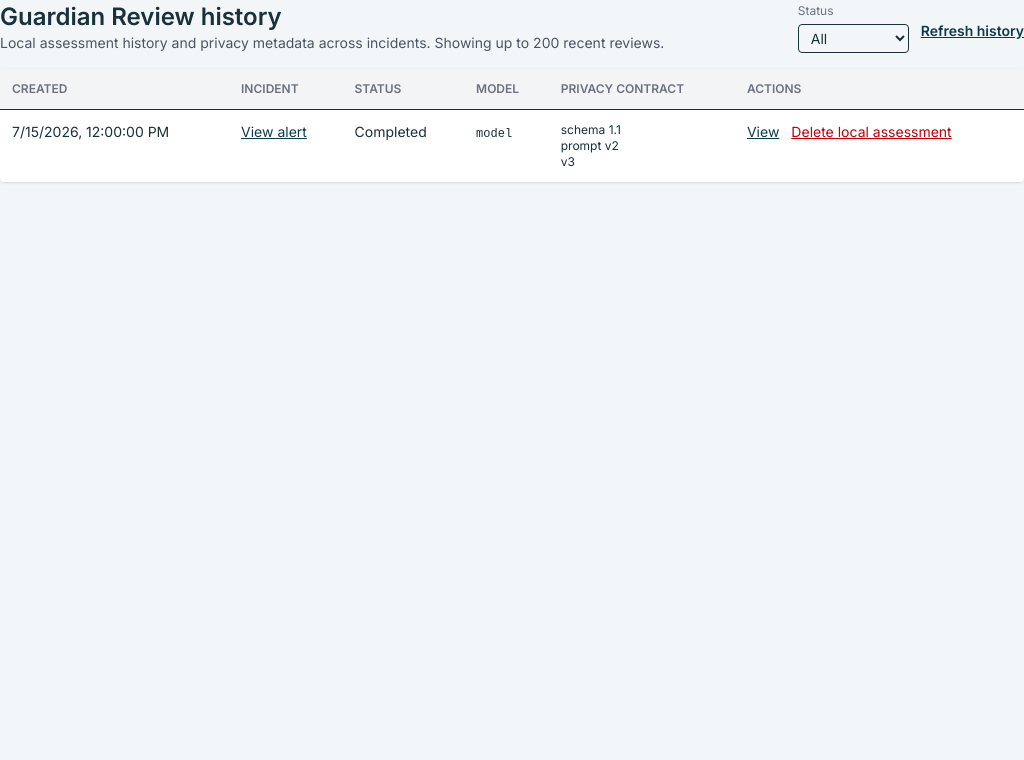
Scenario: Guardian Review global history › clears a deleted assessment even if refreshing history fails
Click the button "View".
click(763, 132)  # box [747,122,779,142]
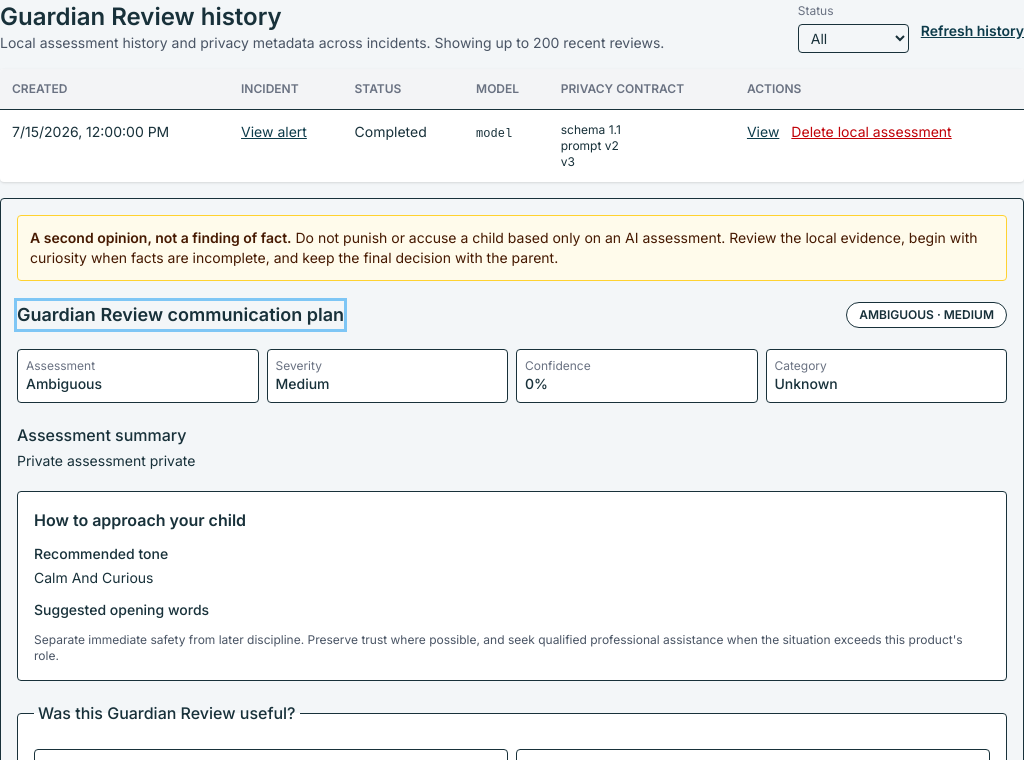
Result: the text "Private assessment private" is shown at [17,452,195,469]
Click the button "Delete local assessment".
click(872, 132)  # box [791,122,952,142]
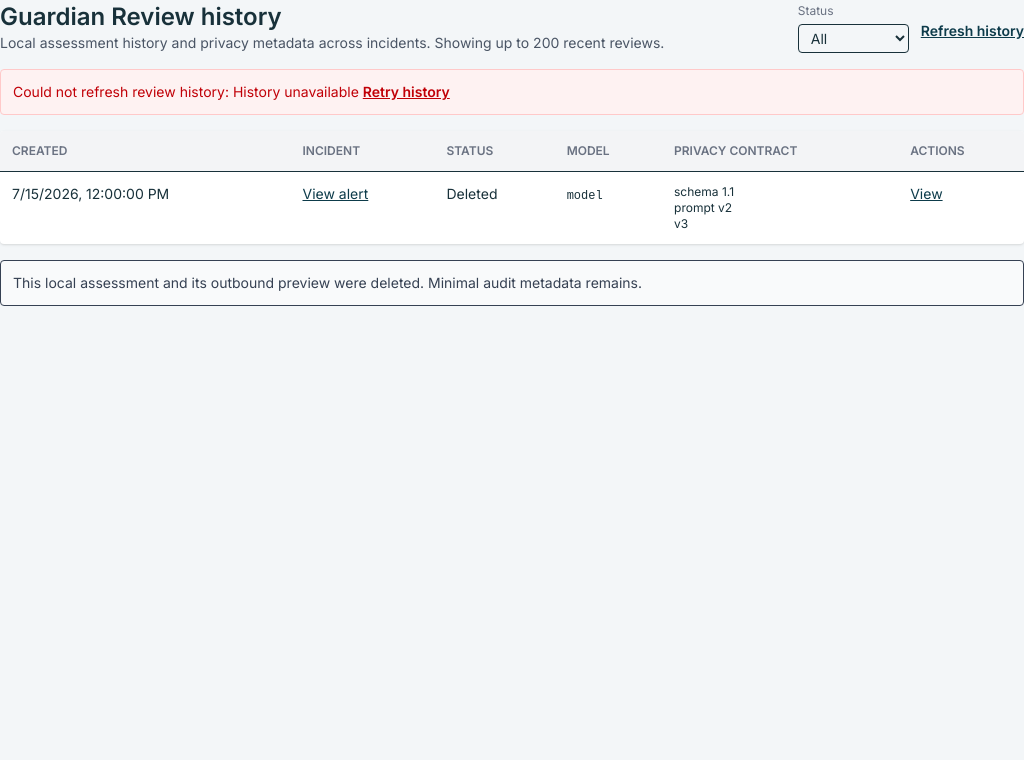
Result: the text "assessment and its outbound preview were deleted" is shown at [13,274,642,291]
Result: the text "Private assessment private" is gone
